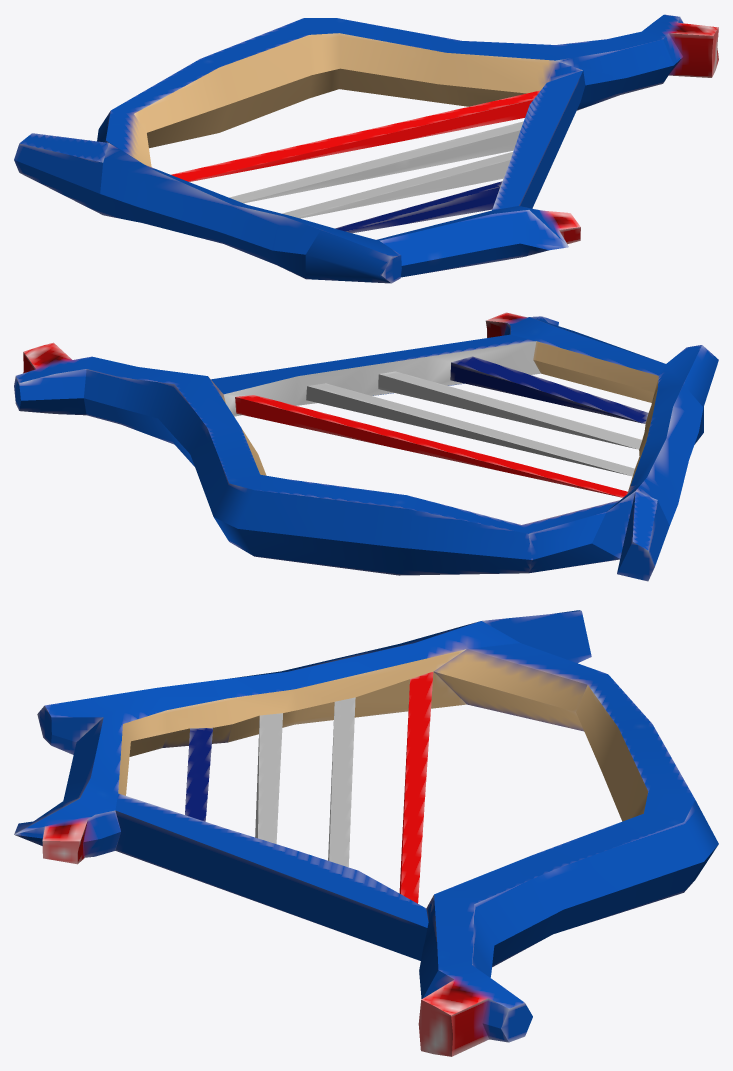
The model's file is arpa-2.obj.
3 renders of one model, top to bottom at view 1: azimuth 30°, elevation 25°; view 2: azimuth 150°, elevation 25°; view 3: azimuth 270°, elevation 25°, orthographic. The views are drawn at different scales.
Visible parts, largest first — view 1: a2_Arpa_1:pCube7; view 2: a2_Arpa_1:pCube7; view 3: a2_Arpa_1:pCube7.
Boxes of the visible parts, x1,y1,x2,y2 form: a2_Arpa_1:pCube7: (14, 14, 718, 283); a2_Arpa_1:pCube7: (14, 312, 718, 581); a2_Arpa_1:pCube7: (14, 610, 718, 1056).
Size of the model in its own units: 8.71 by 0.8884 by 6.44.
1 material, 1 textured.
